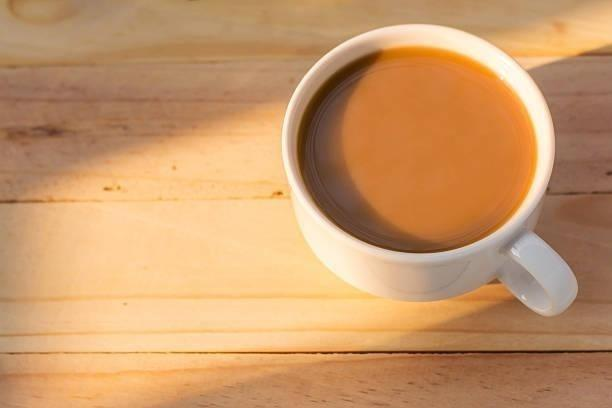cup-handle: (280, 21, 577, 318)
